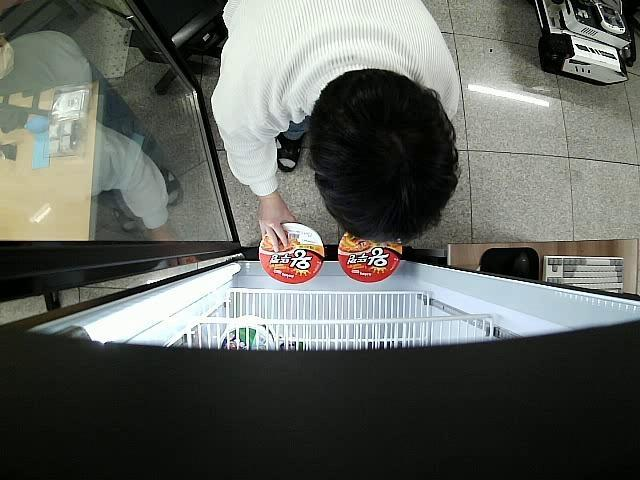10_wangTtukkeong: (260, 222, 324, 284)
